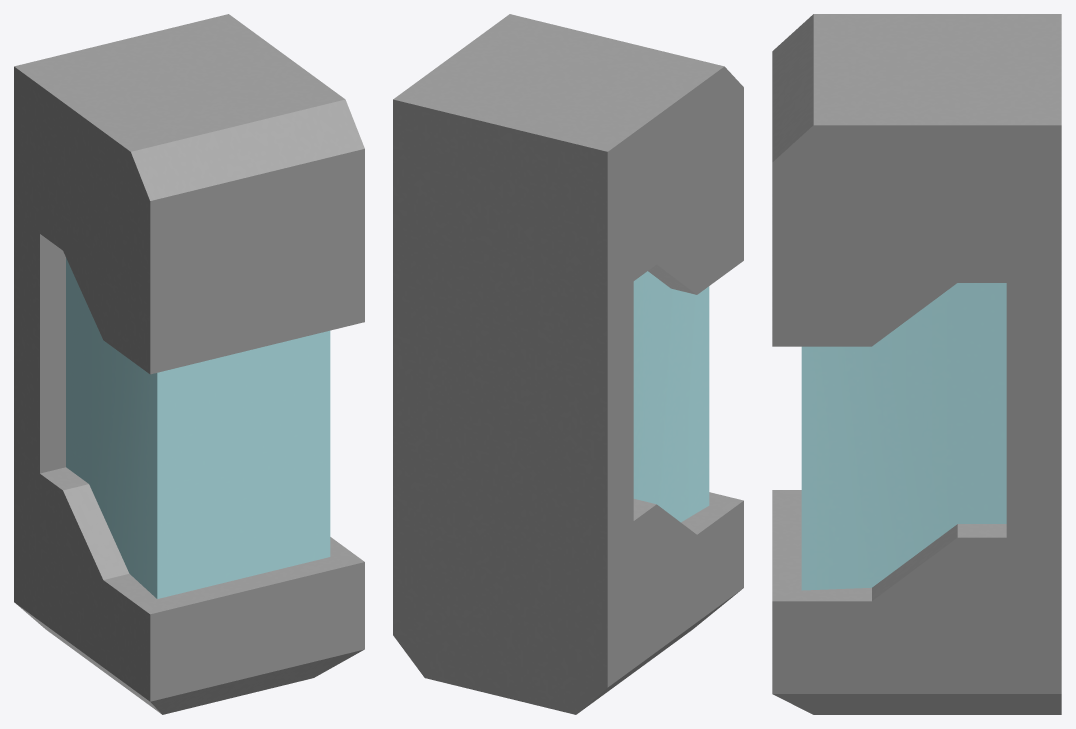
File: Light_Wall.fbx
The picture shows the model from 3 angles, left to right: view 1: azimuth 30°, elevation 25°; view 2: azimuth 150°, elevation 25°; view 3: azimuth 270°, elevation 25°; orthographic projection. The views are drawn at different scales.
Parts seen in each view (by area): view 1: Light_Wall; view 2: Light_Wall; view 3: Light_Wall.
Part boxes in pixels (<box>): Light_Wall: <box>14,14,364,714</box>; Light_Wall: <box>393,14,743,714</box>; Light_Wall: <box>772,14,1061,714</box>.
Size of the model in its own units: 23.54 by 59.78 by 25.85.
1 material, 1 textured.
